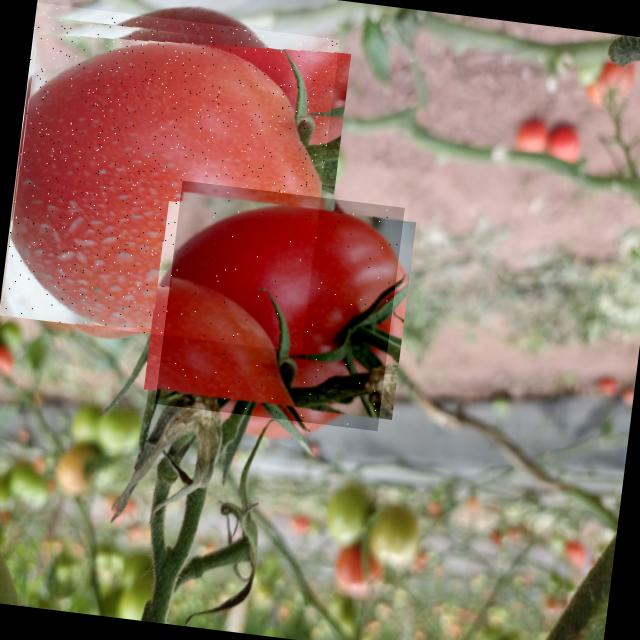Ripe Tomato: (0, 2, 339, 352), (154, 180, 404, 431)
